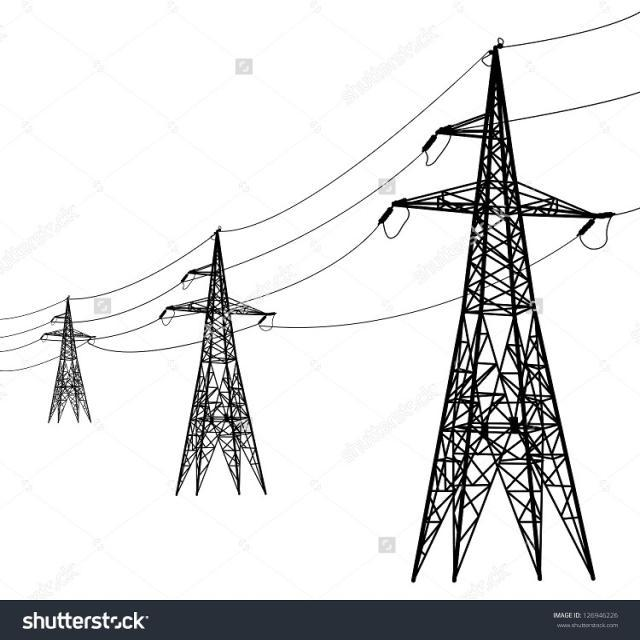non-critical vegetation: (414, 44, 606, 573), (156, 205, 293, 492), (34, 293, 112, 432)
